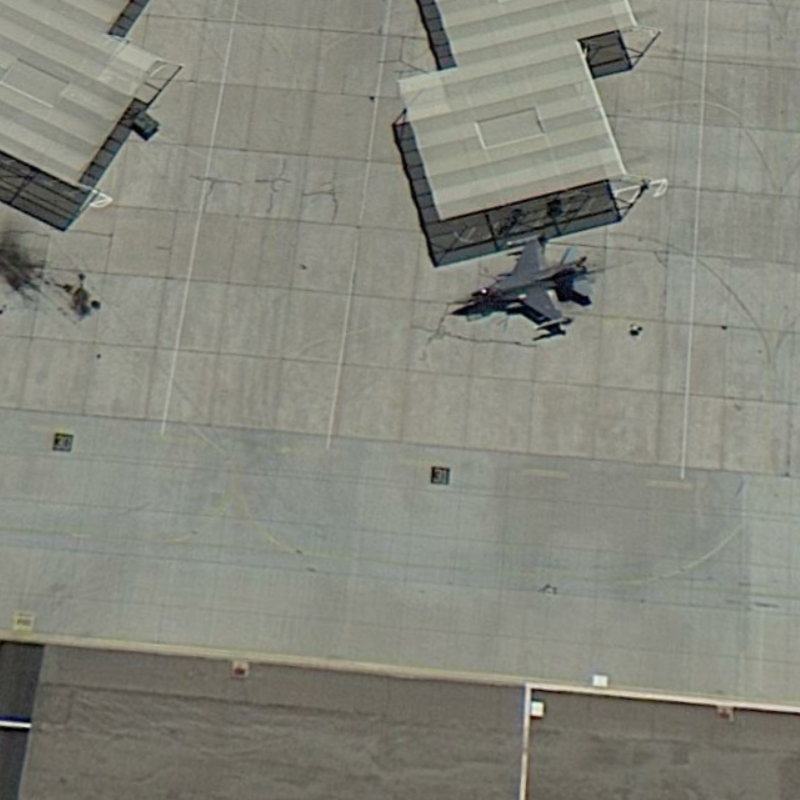A5: (443, 228, 598, 345)
